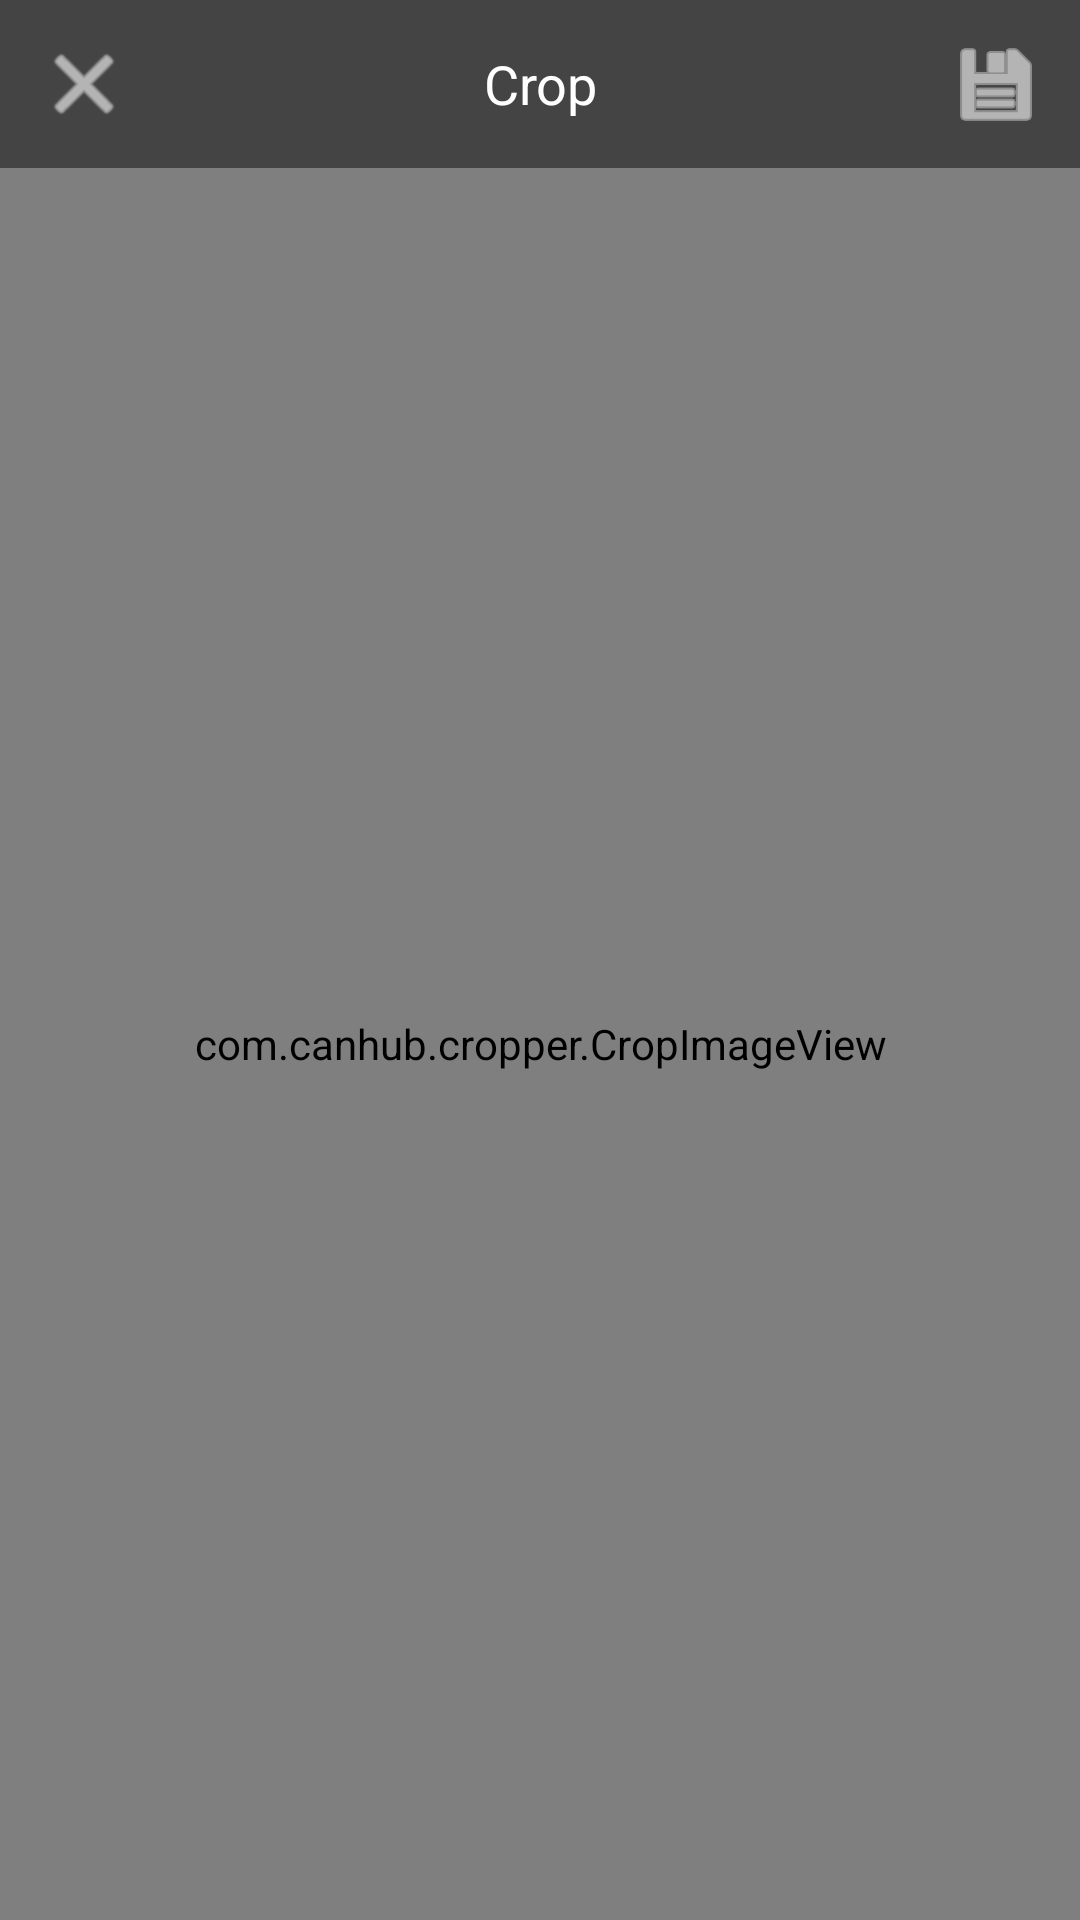

Icon click points for this 1080 x 1920 phone screenshot, format point (x, y):
Cancel: point (84, 84)
Done: point (996, 84)
